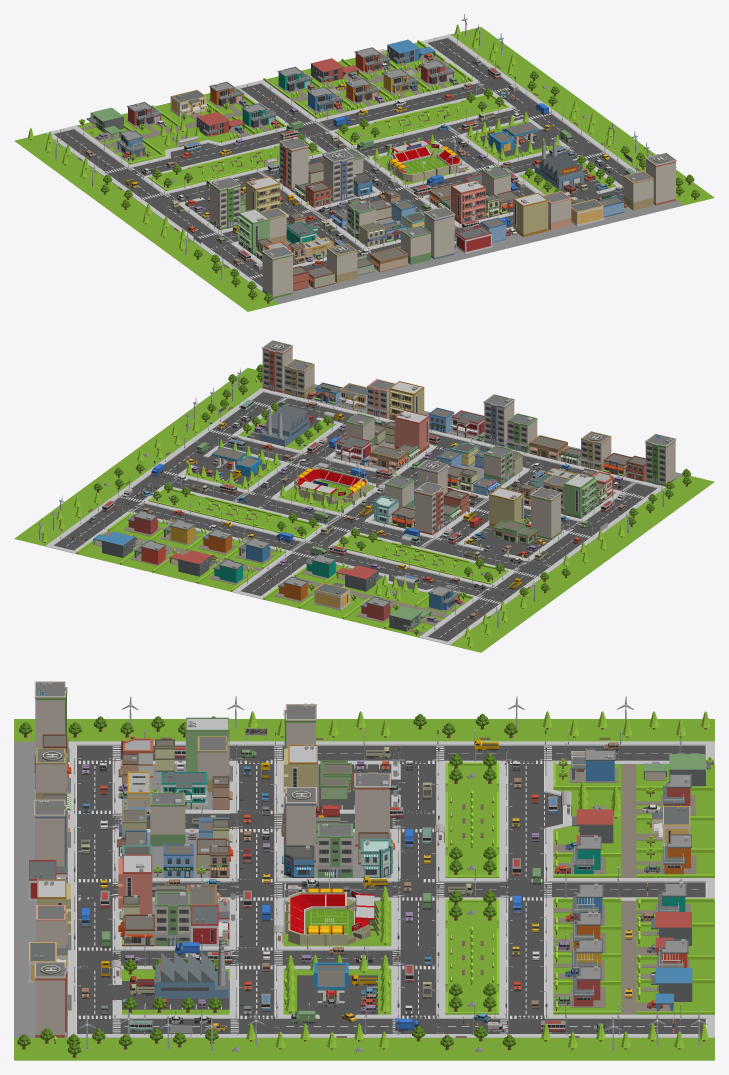
The model's file is Scene_City.fbx.
The picture shows the model from 3 angles, top to bottom: view 1: azimuth 30°, elevation 25°; view 2: azimuth 150°, elevation 25°; view 3: azimuth 270°, elevation 25°; orthographic projection. The views are drawn at different scales.
Parts seen in each view (by area): view 1: Building_Stadium.001, Building Sky_big_color01.002, Building Sky_big_color01.001, Building_Factory.001, Building_Residential_color03.002, Building Sky_big_color02.001, Building Sky_big_color03.003, Building_Residential_color02.001, Building Sky_big_color03.002, Building Sky_big_color02.002, Road Lane Bus Stop.001, Building_Residential_color01.001 (+72 smaller); view 2: Building_Stadium.001, Building_Factory.001, Building Sky_big_color01.002, Building Sky_big_color01.001, Building Sky_big_color02.001, Building_Residential_color01.001, Building Sky_big_color03.002, Building_Residential_color02.001, Building Sky_big_color02.002, Building_Residential_color03.001, Building_Residential_color03.002, Building Sky_small_color02.001 (+64 smaller); view 3: Building_Stadium.001, Building_Factory.001, Road Lane Bus Stop.001, Building Sky_big_color02.002, Building Sky_big_color02.001, Building Sky_big_color03.002, Building Sky_small_color03.001, Building Sky_small_color03.003, Building Sky_small_color03.002, Building Sky_big_color01.002, Building Sky_big_color03.003, Building_Residential_color02.001 (+145 smaller).
Boxes of the visible parts, x1,y1,x2,y2 form: Building_Stadium.001: [387, 139, 461, 182]; Building Sky_big_color01.002: [262, 246, 293, 298]; Building Sky_big_color01.001: [209, 177, 240, 229]; Building_Factory.001: [534, 138, 584, 189]; Building_Residential_color03.002: [513, 192, 548, 237]; Building Sky_big_color02.001: [279, 137, 309, 189]; Building Sky_big_color03.003: [323, 149, 354, 202]; Building_Residential_color02.001: [451, 180, 485, 224]; Building Sky_big_color03.002: [423, 207, 455, 259]; Building Sky_big_color02.002: [645, 152, 676, 205]; Road Lane Bus Stop.001: [161, 140, 240, 169]; Building_Residential_color01.001: [236, 208, 269, 254]; Building_Stadium.001: [294, 456, 368, 506]; Building_Factory.001: [259, 404, 309, 446]; Building Sky_big_color01.002: [645, 433, 676, 486]; Building Sky_big_color01.001: [530, 487, 561, 539]; Building Sky_big_color02.001: [414, 482, 444, 534]; Building_Residential_color01.001: [563, 473, 596, 518]; Building Sky_big_color03.002: [483, 394, 514, 446]; Building_Residential_color02.001: [394, 410, 429, 454]; Building Sky_big_color02.002: [261, 340, 293, 392]; Building_Residential_color03.001: [489, 487, 523, 526]; Building_Residential_color03.002: [389, 381, 424, 420]; Building Sky_small_color02.001: [282, 359, 314, 398]; Building_Stadium.001: [283, 872, 379, 947]; Building_Factory.001: [154, 939, 228, 999]; Road Lane Bus Stop.001: [499, 787, 571, 832]; Building Sky_big_color02.002: [34, 962, 67, 1037]; Building Sky_big_color02.001: [354, 772, 390, 846]; Building Sky_big_color03.002: [34, 799, 67, 866]; Building Sky_small_color03.001: [317, 823, 352, 877]; Building Sky_small_color03.003: [155, 892, 190, 946]; Building Sky_small_color03.002: [150, 791, 185, 846]; Building Sky_big_color01.002: [34, 681, 67, 755]; Building Sky_big_color03.003: [283, 787, 316, 862]; Building_Residential_color02.001: [118, 854, 152, 914].
Size of the model in its own units: 300 by 32.73 by 260.
Materials: 69 (69 with a texture image).
